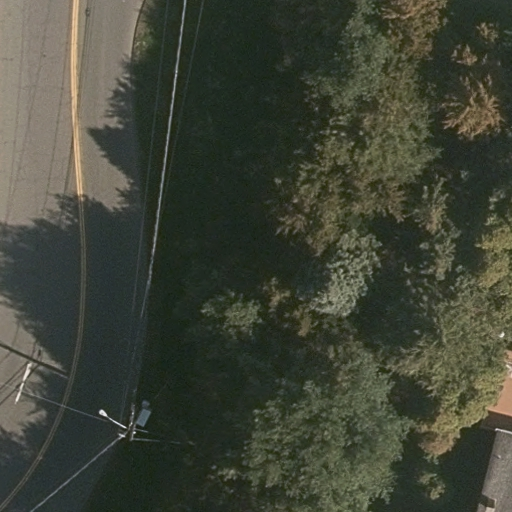DT: (95, 393, 175, 458)
